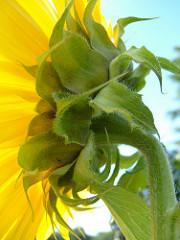sunflower: (0, 0, 131, 240)
